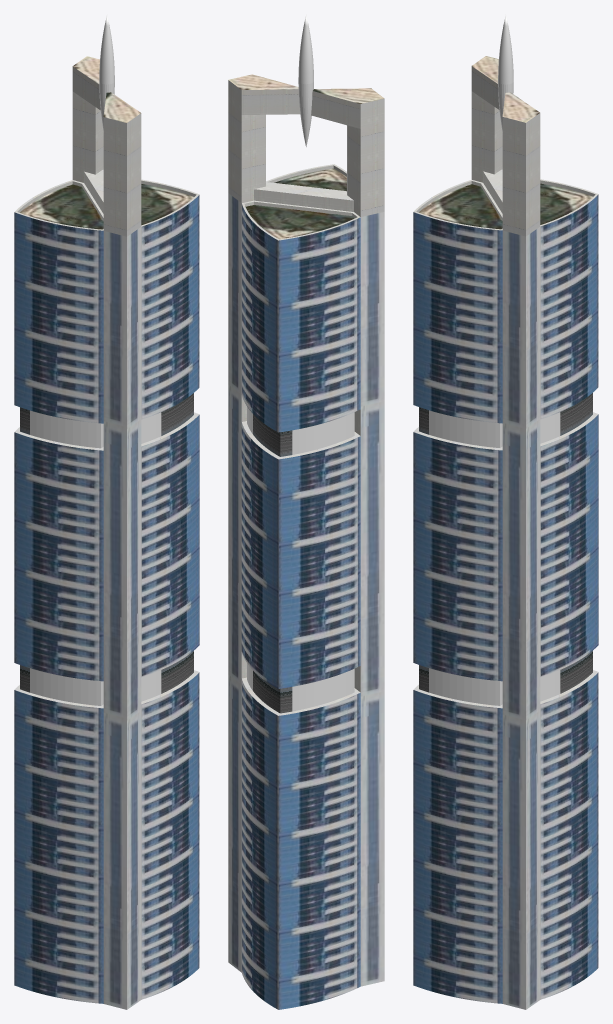
3 renders of one model, left to right at view 1: azimuth 90°, elevation 25°; view 2: azimuth 150°, elevation 25°; view 3: azimuth 270°, elevation 25°, orthographic.
Visible parts, largest first — view 1: Model; view 2: Model; view 3: Model.
Boxes of the visible parts, x1,y1,x2,y2 form: Model: (14, 14, 199, 1009); Model: (228, 14, 384, 1009); Model: (413, 14, 598, 1009).
Size of what is drawn, in the model's own units: 38.38 by 257 by 44.92.
